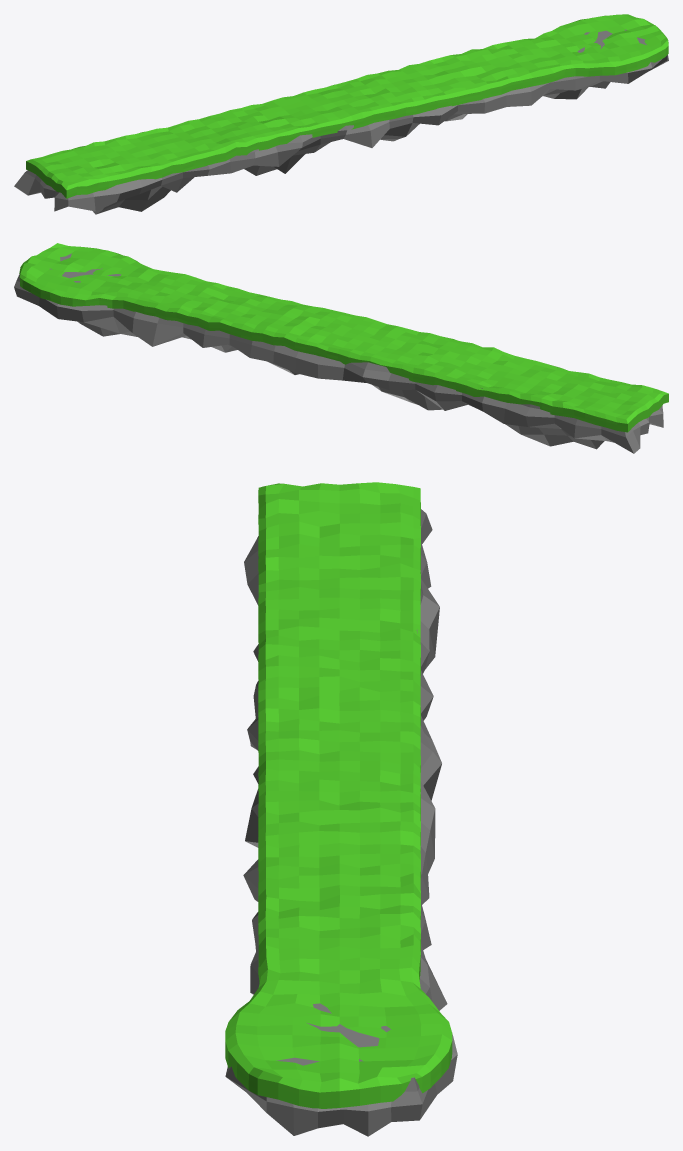
The model's file is Beachisland_Part_02.fbx.
3 views of the same model, one above another, from view 1: azimuth 30°, elevation 25°; view 2: azimuth 150°, elevation 25°; view 3: azimuth 270°, elevation 25° (orthographic). The views are drawn at different scales.
Visible parts, largest first — view 1: Box051, Box050; view 2: Box051, Box050; view 3: Box051, Box050.
Boxes of the visible parts, box(x1,y1,x2,y2) form: Box051: box(26, 14, 668, 198); Box050: box(14, 29, 668, 214); Box051: box(19, 243, 668, 432); Box050: box(14, 253, 663, 453); Box051: box(225, 482, 452, 1108); Box050: box(225, 509, 457, 1136).
Bounding box in the file's own units: 544 × 55.17 × 88.06.
